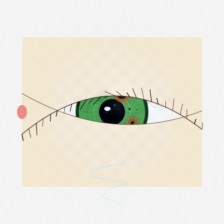foreign_body_visible: (56, 119, 78, 137)
